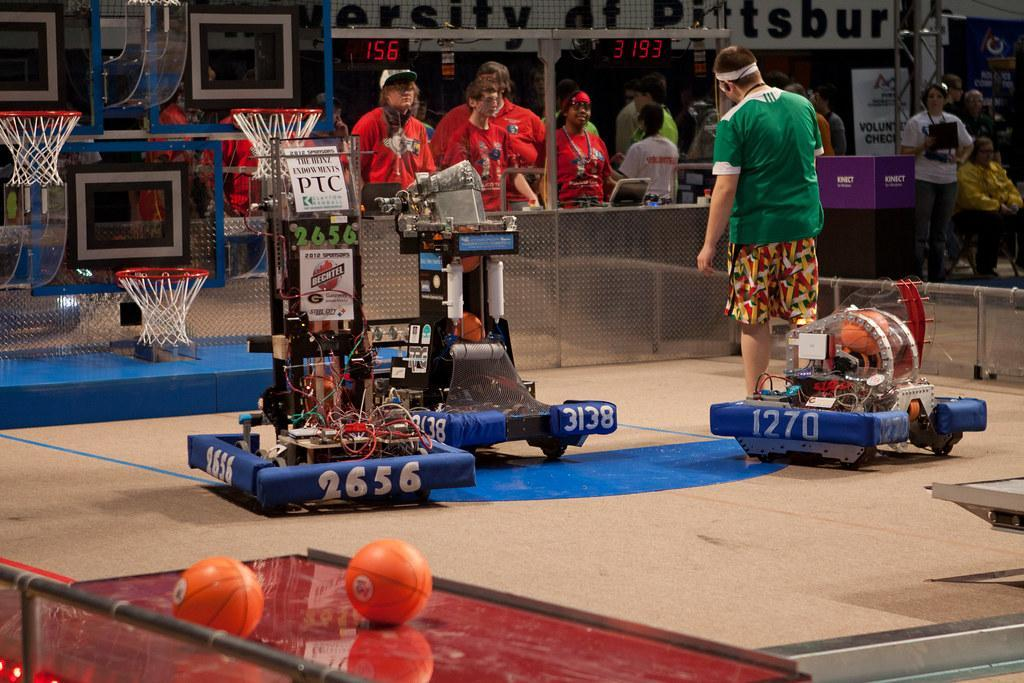robot: (181, 128, 479, 512), (368, 153, 620, 467), (695, 296, 994, 473)
